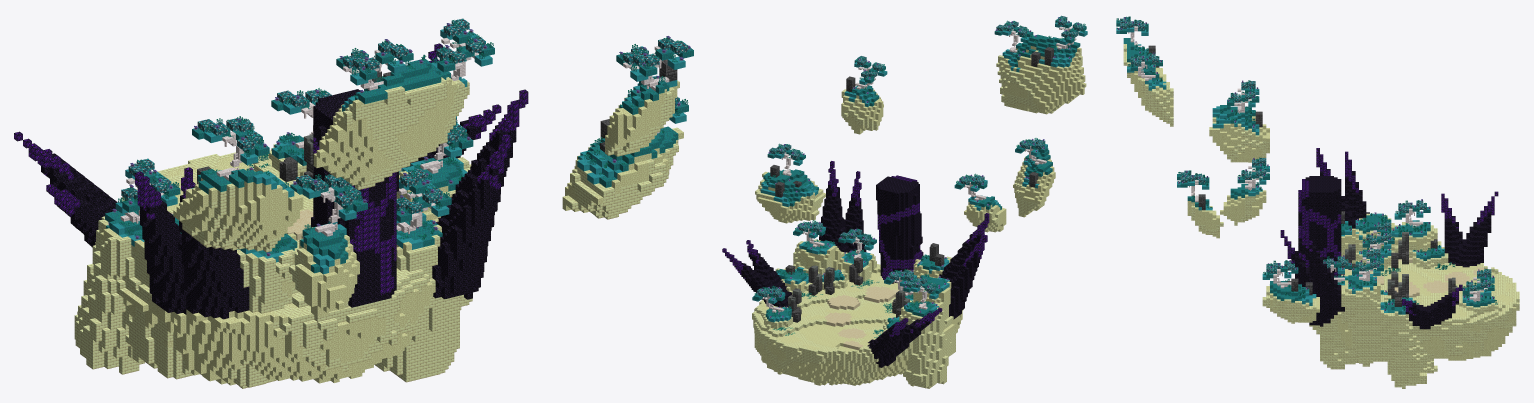
Rendered from end_island.glb.
3 views of the same model, side by side, from view 1: azimuth 30°, elevation 25°; view 2: azimuth 150°, elevation 25°; view 3: azimuth 270°, elevation 25° (orthographic). The views are drawn at different scales.
Visible parts, largest first — view 1: end_stone_bricks; view 2: end_stone_bricks; view 3: end_stone_bricks.
Boxes of the visible parts, x1,y1,x2,y2 form: end_stone_bricks: (14, 18, 693, 388); end_stone_bricks: (722, 15, 1087, 388); end_stone_bricks: (1116, 16, 1519, 388).
Bounding box in the file's own units: 92 × 89 × 113.
18 materials, 18 textured.
